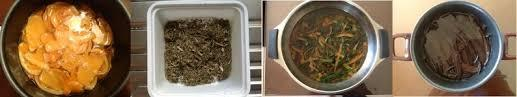Organic: (4, 3, 517, 91)
